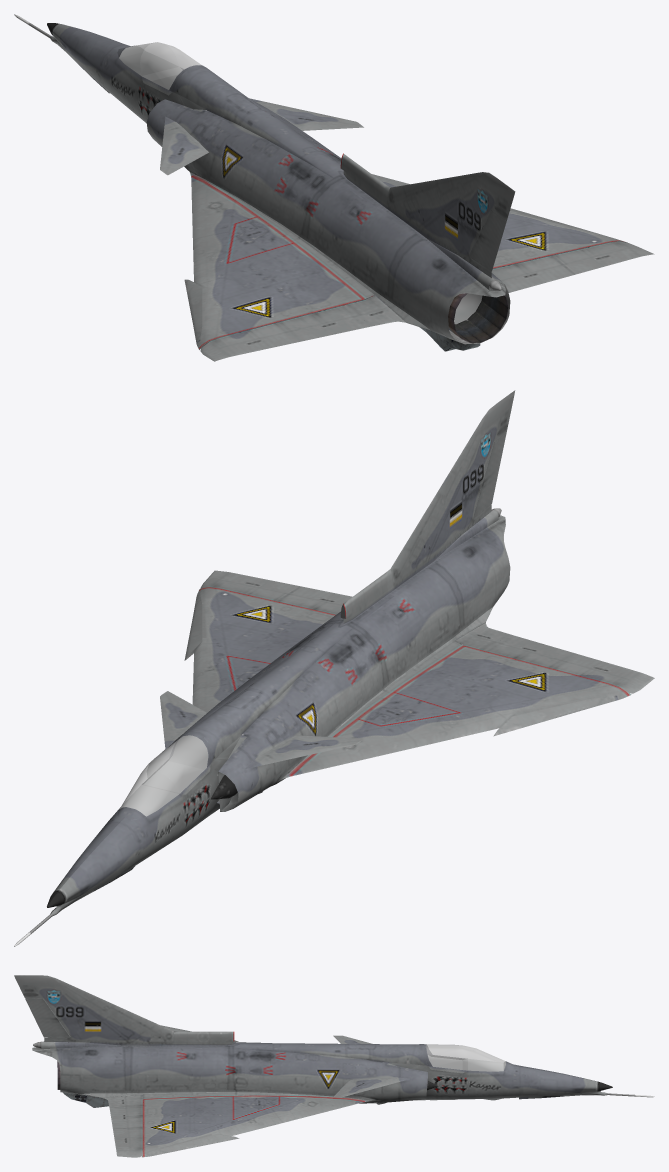
Rendered from bravo_kfir.glb.
3 views of the same model, one above another, from view 1: azimuth 30°, elevation 25°; view 2: azimuth 150°, elevation 25°; view 3: azimuth 270°, elevation 25° (orthographic). The views are drawn at different scales.
Visible parts, largest first — view 1: kfir_c2_2.004, kfir_c2_2.005, kfir_c2_2.006; view 2: kfir_c2_2.004, kfir_c2_2.005; view 3: kfir_c2_2.004, kfir_c2_2.005, kfir_c2_2.008.
Boxes of the visible parts, left/top/right/bottom form: kfir_c2_2.004: left=14, top=14, right=654, bottom=361; kfir_c2_2.005: left=119, top=42, right=201, bottom=89; kfir_c2_2.006: left=448, top=293, right=508, bottom=343; kfir_c2_2.004: left=14, top=390, right=654, bottom=946; kfir_c2_2.005: left=120, top=735, right=208, bottom=816; kfir_c2_2.004: left=14, top=975, right=654, bottom=1157; kfir_c2_2.005: left=426, top=1044, right=505, bottom=1071; kfir_c2_2.008: left=63, top=1092, right=142, bottom=1107.
Bounding box in the file's own units: 8.2 × 3.63 × 16.16.
4 materials, 3 textured.
